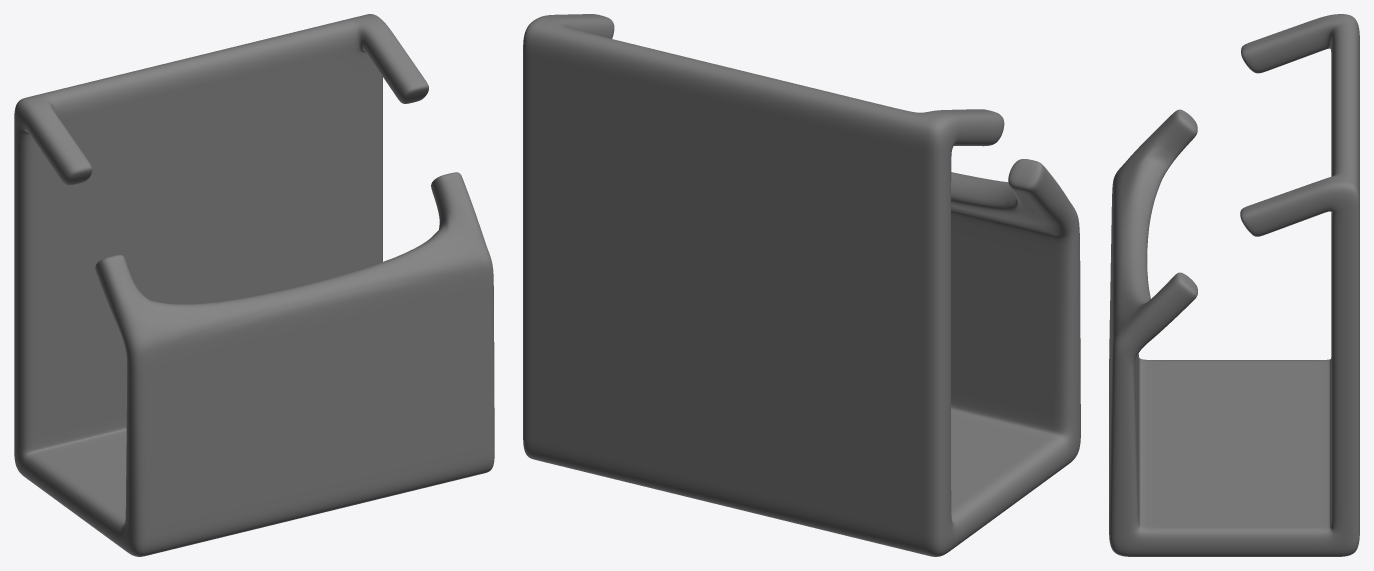
The model's file is sanitizer holder.fbx.
The picture shows the model from 3 angles, left to right: view 1: azimuth 30°, elevation 25°; view 2: azimuth 150°, elevation 25°; view 3: azimuth 270°, elevation 25°; orthographic projection. The views are drawn at different scales.
Visible parts, largest first — view 1: Subdivision_Surface_1; view 2: Subdivision_Surface_1; view 3: Subdivision_Surface_1.
Part boxes in pixels (box(x1,y1,x2,y2)): Subdivision_Surface_1: box(14, 14, 494, 556); Subdivision_Surface_1: box(523, 14, 1080, 556); Subdivision_Surface_1: box(1109, 14, 1359, 556).
Bounding box in the file's own units: 200 × 198 × 120.
